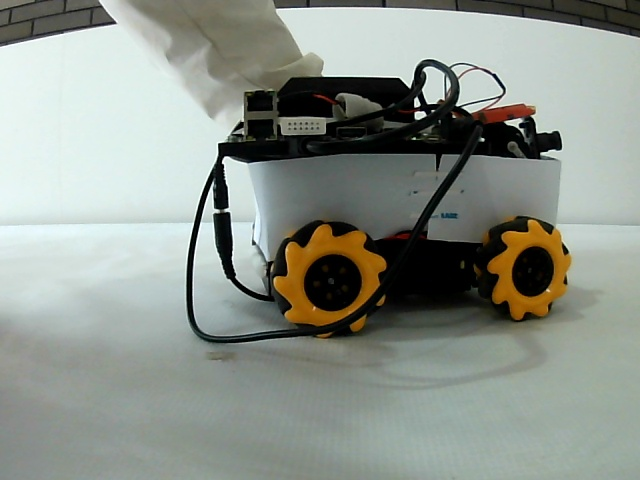car: (213, 71, 568, 326)
paper: (252, 163, 558, 217)
